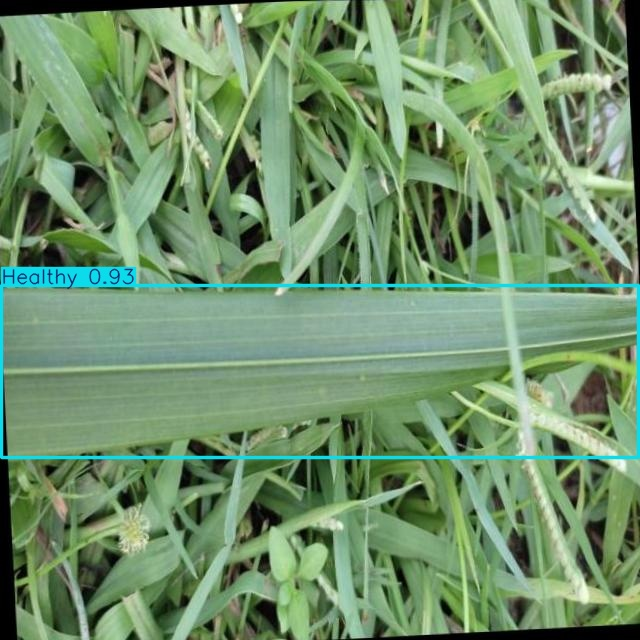Healthy: (1, 285, 639, 458)
